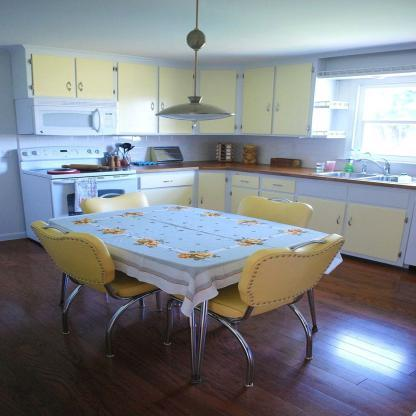chair: (193, 229, 343, 388), (19, 208, 162, 359), (231, 187, 330, 339), (82, 187, 146, 218)
light: (152, 0, 231, 137)
table: (39, 203, 341, 375)
